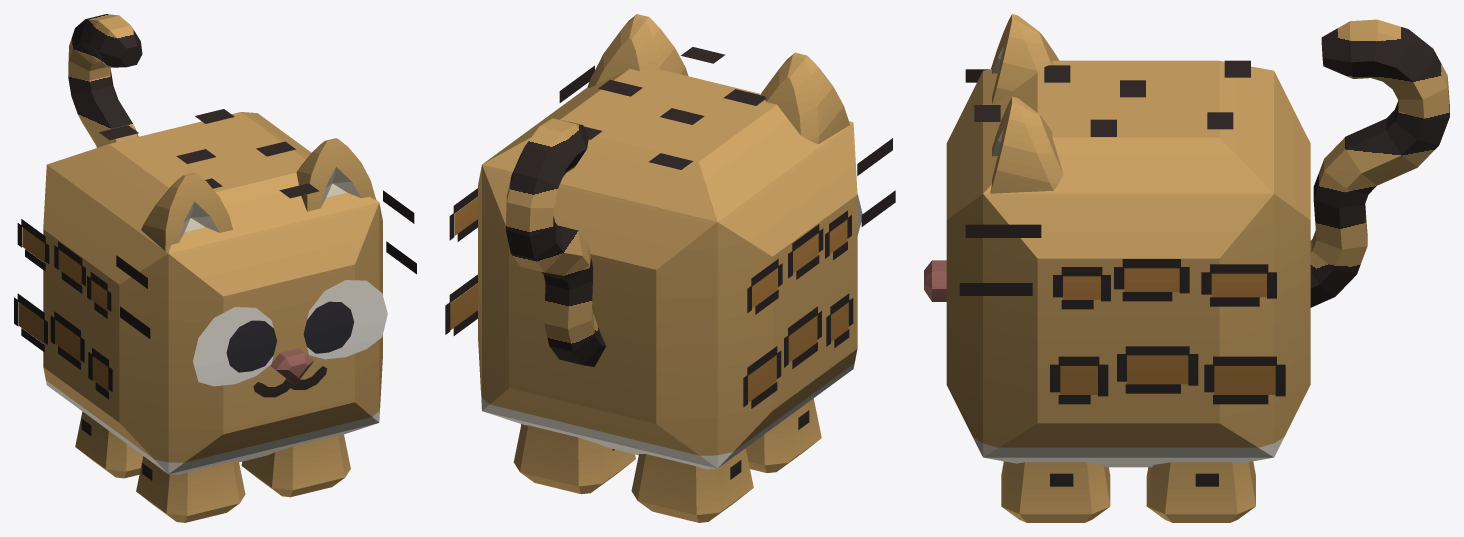
File: jaguatirica.glb
The picture shows the model from 3 angles, left to right: view 1: azimuth 30°, elevation 25°; view 2: azimuth 150°, elevation 25°; view 3: azimuth 270°, elevation 25°; orthographic projection. The views are drawn at different scales.
Parts seen in each view (by area): view 1: head, body, tail, leg-front-right, leg-front-left, leg-back-right; view 2: body, tail, head, leg-back-right, leg-back-left, leg-front-right; view 3: body, head, tail, leg-front-left, leg-back-left.
Boxes of the visible parts, x1,y1,x2,y2 form: head: [118, 138, 416, 474]; body: [14, 109, 384, 456]; tail: [68, 14, 142, 147]; leg-front-right: [136, 456, 245, 522]; leg-front-left: [241, 434, 350, 497]; leg-back-right: [75, 411, 143, 478]; body: [445, 37, 859, 469]; tail: [506, 118, 605, 366]; head: [561, 14, 895, 386]; leg-back-right: [631, 448, 753, 522]; leg-back-left: [513, 424, 635, 494]; leg-front-right: [745, 398, 821, 472]; body: [1037, 31, 1310, 467]; head: [924, 14, 1037, 463]; tail: [1310, 19, 1449, 307]; leg-front-left: [1001, 461, 1110, 522]; leg-back-left: [1146, 461, 1255, 522].
Bounding box in the file's own units: 1.26 × 1.71 × 1.81.
1 material, 1 textured.
